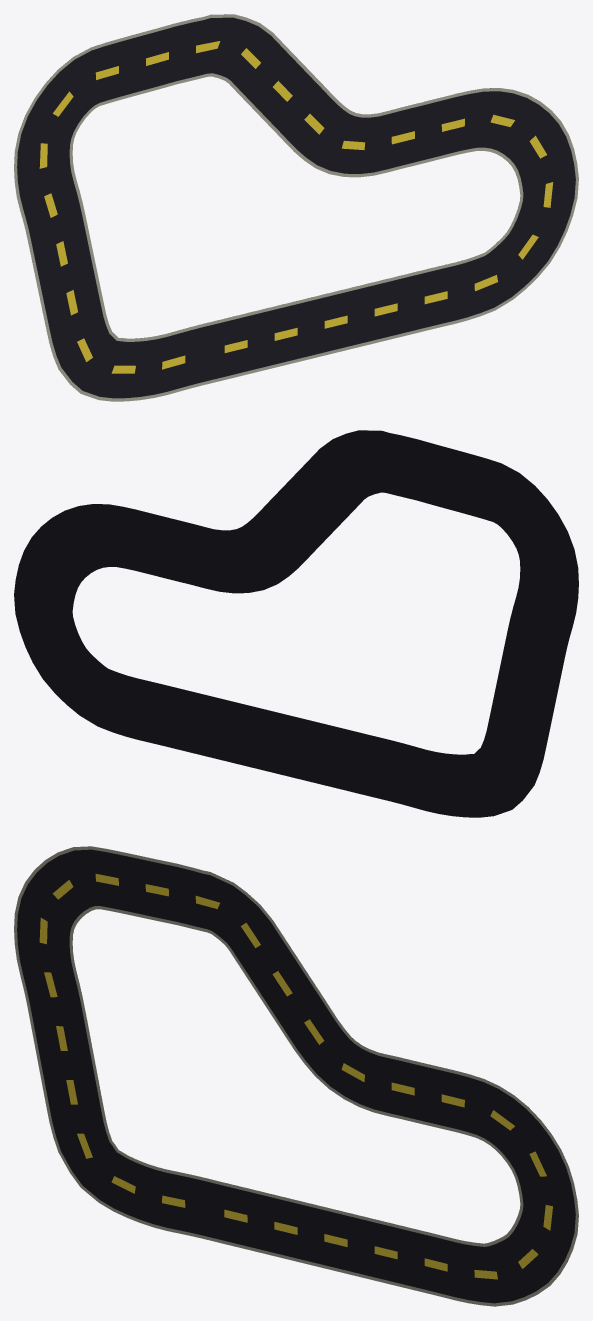
Rendered from track.obj.
3 views of the same model, one above another, from view 1: azimuth 30°, elevation 25°; view 2: azimuth 150°, elevation 25°; view 3: azimuth 330°, elevation 25° (orthographic).
Bounding box in the file's own units: 7.34 × 4.59 × 0.002.
